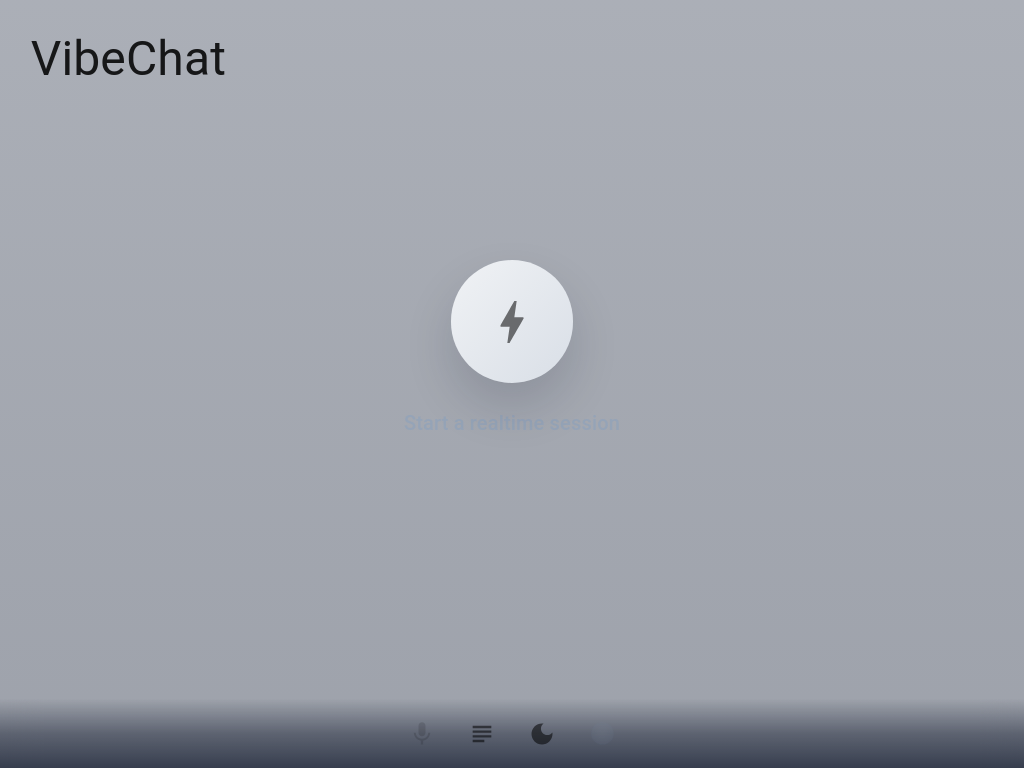
Test case: ChatClient lightning entry overlay › surfaces connection errors on the overlay
What coordinates should you click on to do the following:
click the button named "start voice session"
I would click on:
 (512, 322)
Its box is left=451, top=260, right=574, bottom=383.
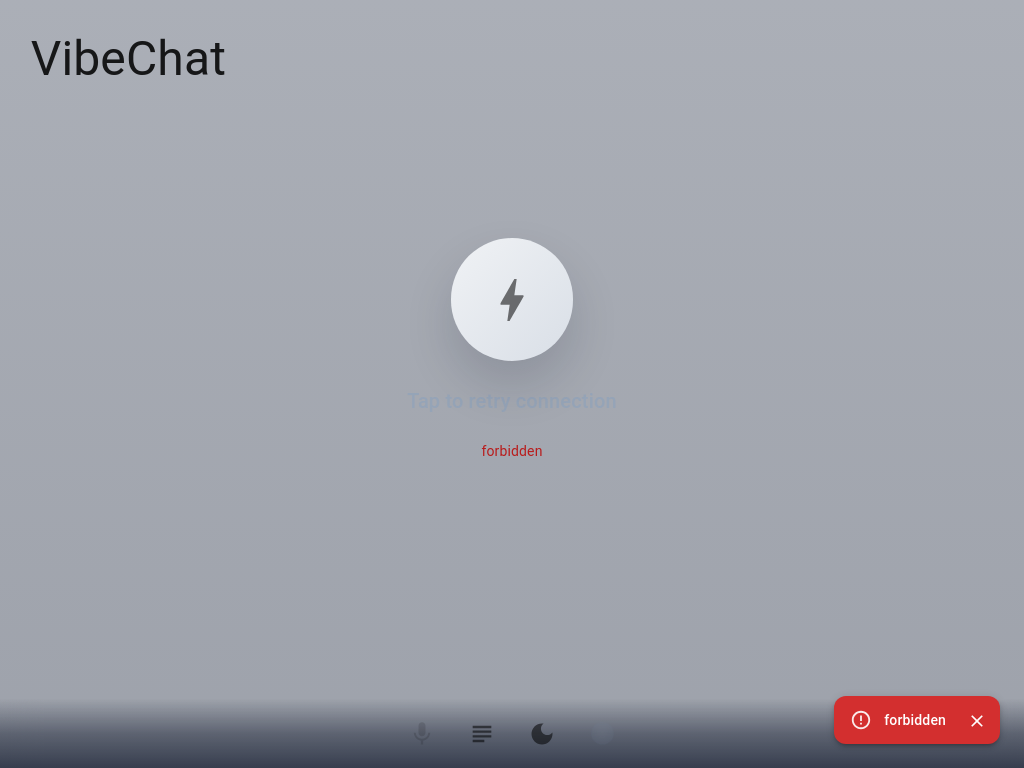
Expected: the button named "start voice session" is enabled, left=451, top=238, right=574, bottom=361
Now the text "forbidden" below "Tap to retry connection" is shown, box left=481, top=443, right=543, bottom=459
